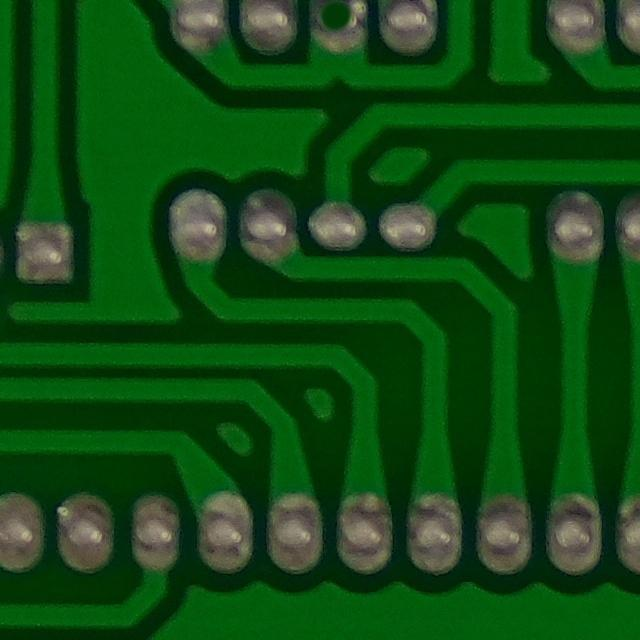missing_hole: (297, 0, 376, 54)
